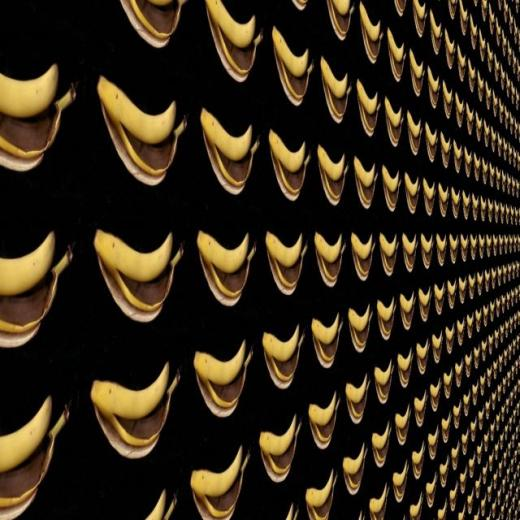Banana: (260, 0, 520, 519), (98, 79, 185, 186), (93, 230, 186, 327), (0, 392, 69, 520), (91, 362, 180, 459), (0, 232, 73, 348), (0, 66, 76, 174), (200, 109, 258, 192), (204, 0, 262, 83), (191, 445, 252, 520), (196, 231, 256, 306), (194, 342, 253, 414), (115, 0, 186, 45), (143, 488, 178, 520)
